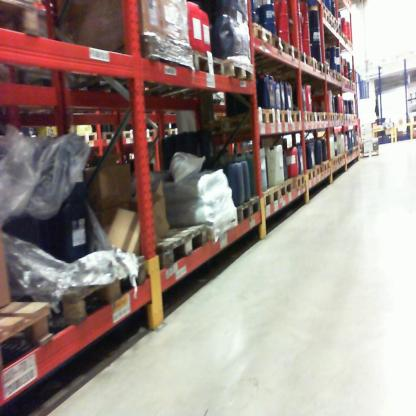pallet: (22, 250, 154, 355), (64, 37, 199, 99), (138, 43, 232, 105), (1, 286, 61, 365), (151, 221, 206, 275), (204, 107, 277, 140), (0, 1, 41, 41), (222, 54, 260, 96), (264, 41, 302, 81), (252, 33, 291, 63), (236, 26, 274, 56), (235, 192, 262, 231), (260, 179, 278, 210), (291, 50, 313, 74), (69, 131, 99, 148), (159, 124, 180, 145), (99, 124, 122, 143), (274, 178, 292, 201), (123, 125, 144, 144), (275, 107, 291, 130), (290, 172, 306, 192), (144, 125, 160, 145), (306, 56, 321, 75), (300, 108, 317, 123), (360, 149, 381, 161), (319, 158, 331, 178), (291, 107, 303, 127), (303, 167, 315, 183), (318, 9, 328, 28), (311, 110, 324, 124), (321, 110, 332, 123), (326, 6, 336, 20), (339, 74, 348, 89), (318, 3, 329, 14), (335, 152, 343, 167), (338, 25, 344, 44), (314, 165, 322, 179), (317, 65, 326, 77), (329, 155, 336, 170), (328, 18, 336, 31), (341, 35, 349, 48), (336, 70, 343, 84), (329, 112, 336, 125), (325, 65, 331, 80), (332, 68, 337, 82), (324, 58, 330, 67), (337, 16, 342, 26), (342, 151, 346, 162)
